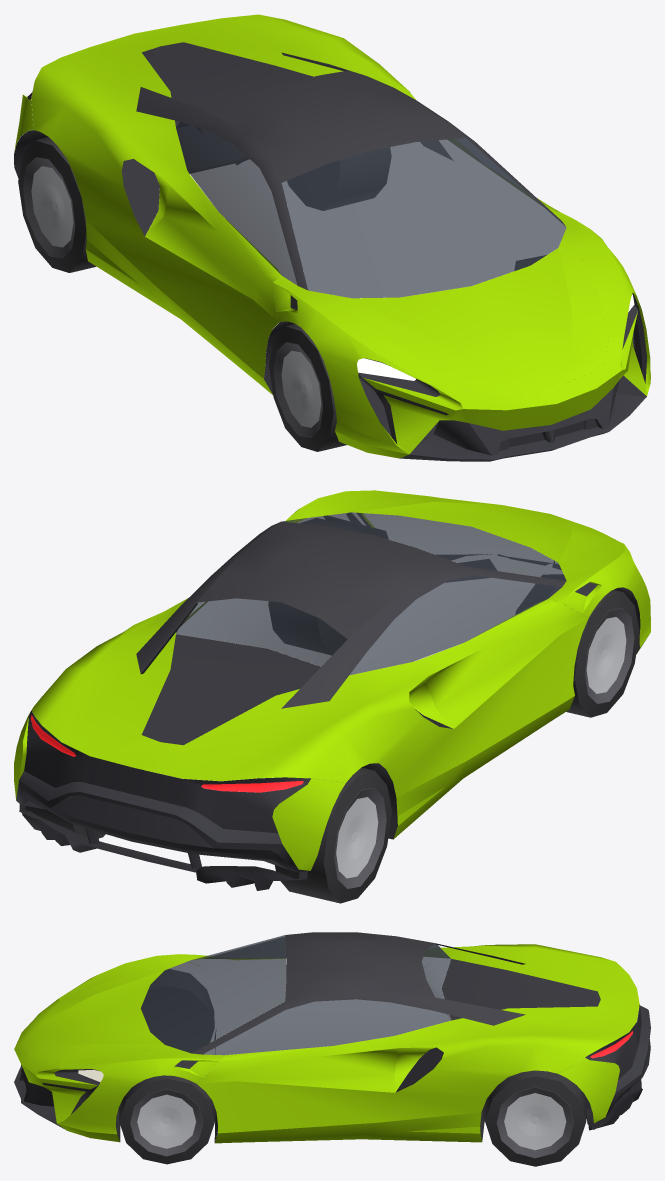
Rendered from artura.glb.
3 views of the same model, one above another, from view 1: azimuth 30°, elevation 25°; view 2: azimuth 150°, elevation 25°; view 3: azimuth 270°, elevation 25° (orthographic). The views are drawn at different scales.
Parts seen in each view (by area): view 1: paint, glass, body, trim, tyre_RL, tyre_RR, tyre_FR, rim_metal_RR, rim_metal_FR, rim_dark_RR, rim_dark_FR, headlights; view 2: paint, body, glass, trim, tyre_RR, tyre_FR, tyre_FL, rim_metal_RR, rim_metal_FR, rim_dark_RR, rim_dark_FR, taillights (+1 smaller); view 3: paint, glass, trim, body, tyre_FR, tyre_RL, tyre_FL, rim_metal_RL, rim_metal_FL, rim_dark_RL, rim_dark_FL.
Part boxes in pixels (bbox=[...]): paint: bbox=[14, 14, 650, 458]; glass: bbox=[176, 121, 566, 298]; body: bbox=[14, 42, 647, 461]; trim: bbox=[136, 52, 565, 290]; tyre_RL: bbox=[287, 147, 391, 210]; tyre_RR: bbox=[18, 137, 96, 272]; tyre_FR: bbox=[269, 324, 346, 451]; rim_metal_RR: bbox=[31, 166, 73, 247]; rim_metal_FR: bbox=[281, 350, 321, 427]; rim_dark_RR: bbox=[23, 157, 75, 258]; rim_dark_FR: bbox=[273, 342, 322, 437]; headlights: bbox=[357, 294, 634, 380]; paint: bbox=[14, 490, 650, 870]; body: bbox=[16, 512, 640, 890]; glass: bbox=[176, 512, 566, 675]; trim: bbox=[136, 521, 566, 708]; tyre_RR: bbox=[275, 767, 391, 903]; tyre_FR: bbox=[546, 587, 639, 717]; tyre_FL: bbox=[268, 518, 368, 655]; rim_metal_RR: bbox=[336, 797, 378, 878]; rim_metal_FR: bbox=[586, 617, 626, 693]; rim_dark_RR: bbox=[334, 788, 386, 889]; rim_dark_FR: bbox=[584, 608, 634, 704]; taillights: bbox=[30, 715, 303, 792]; paint: bbox=[14, 944, 639, 1143]; glass: bbox=[140, 935, 450, 1055]; trim: bbox=[191, 932, 525, 1054]; body: bbox=[14, 959, 650, 1142]; tyre_FR: bbox=[141, 969, 214, 1052]; tyre_RL: bbox=[484, 1070, 586, 1166]; tyre_FL: bbox=[119, 1075, 215, 1164]; rim_metal_RL: bbox=[504, 1093, 566, 1150]; rim_metal_FL: bbox=[137, 1094, 196, 1148]; rim_dark_RL: bbox=[496, 1087, 573, 1158]; rim_dark_FL: bbox=[130, 1089, 203, 1156].
Bounding box in the file's own units: 1.91 × 1.23 × 4.54.
